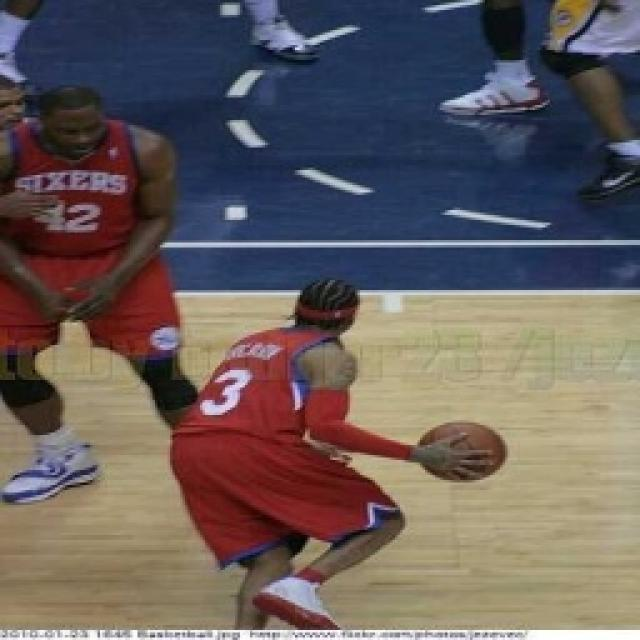basketball: (412, 413, 516, 492)
